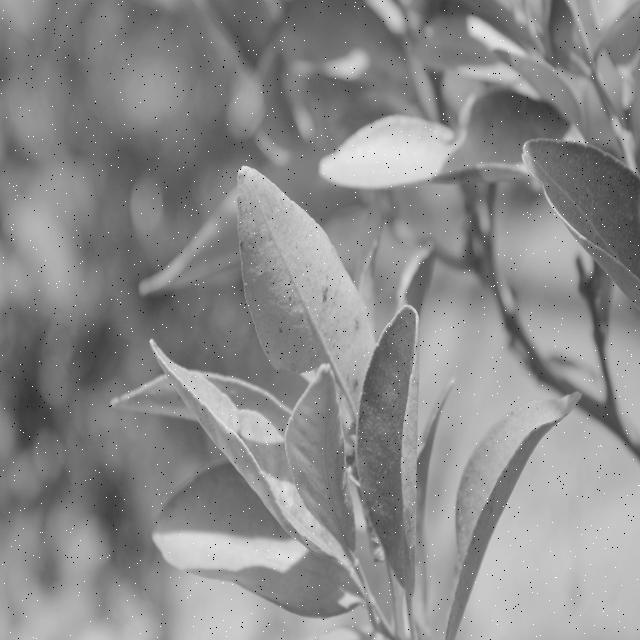blackspot: (235, 169, 367, 399)
